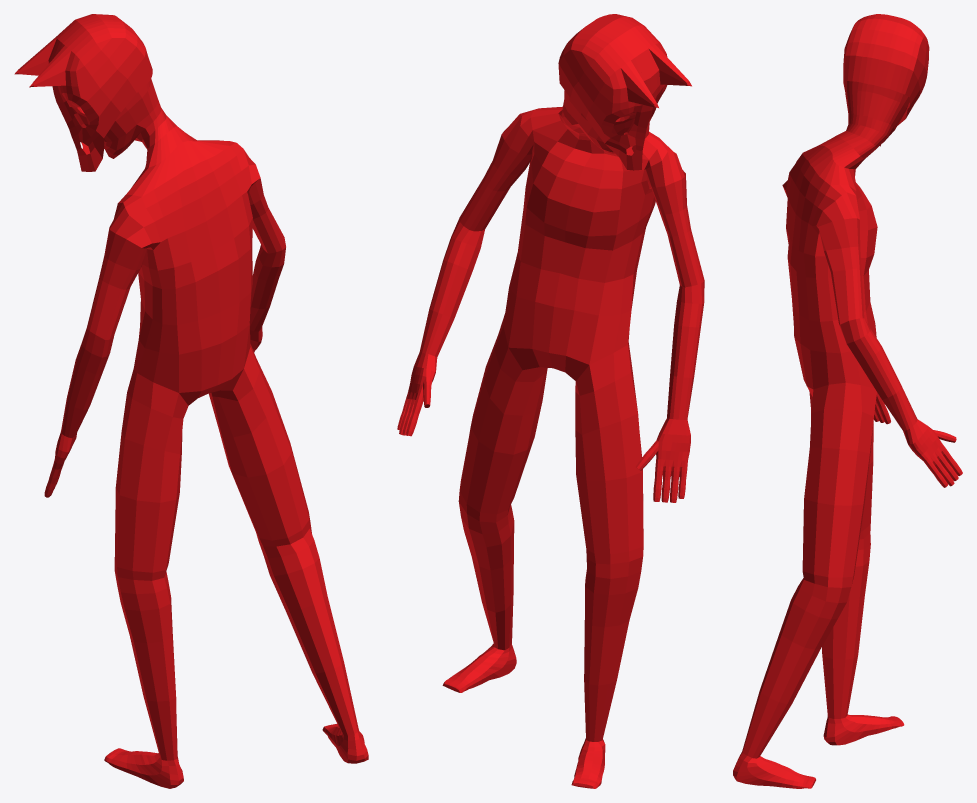
The model's file is reposoE_000240.obj.
3 views of the same model, side by side, from view 1: azimuth 30°, elevation 25°; view 2: azimuth 150°, elevation 25°; view 3: azimuth 270°, elevation 25° (orthographic). The views are drawn at different scales.
Parts seen in each view (by area): view 1: Plane.002_Plane.001; view 2: Plane.002_Plane.001; view 3: Plane.002_Plane.001.
Boxes of the visible parts, bbox=[...] form: Plane.002_Plane.001: bbox=[14, 14, 368, 788]; Plane.002_Plane.001: bbox=[397, 14, 704, 788]; Plane.002_Plane.001: bbox=[733, 14, 962, 788].
Bounding box in the file's own units: 2.72 × 7.02 × 2.08.
